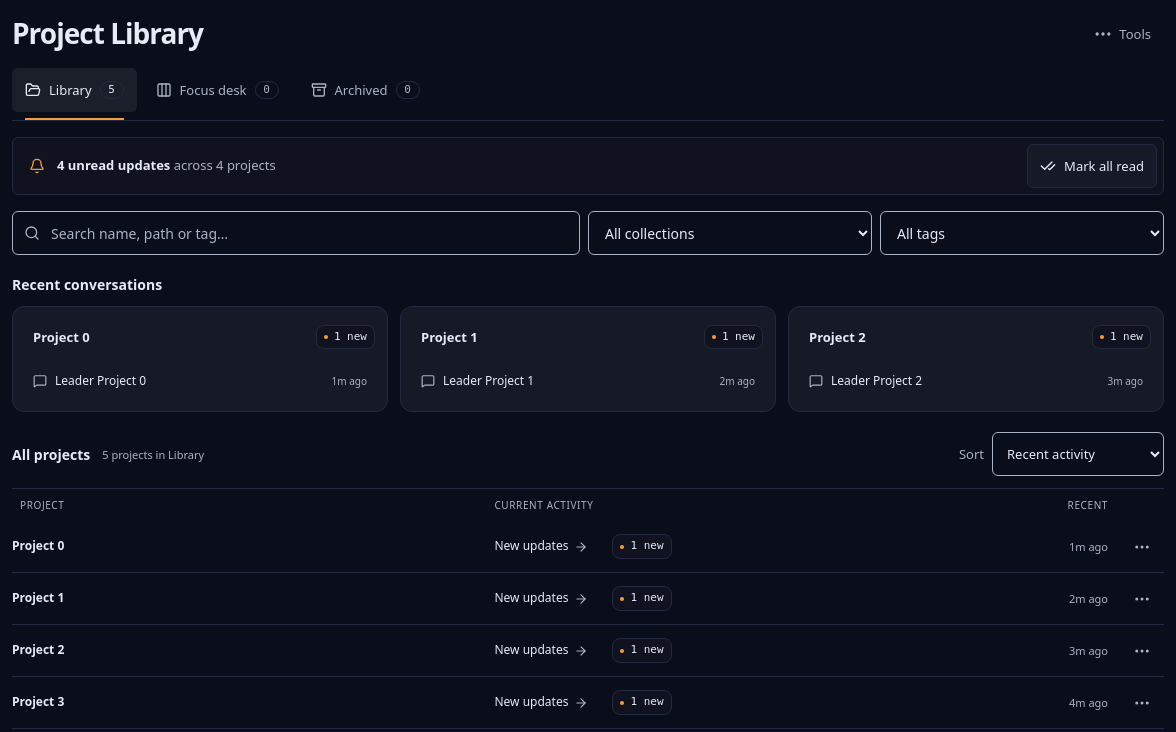
Test case: features only the latest three matching projects and keeps them in the complete compact list
Expected: the element named "Recent conversations for Project 0" is shown, [12,306,388,412]
Select "match" in the 2nd dropdown named "Tag" at (1022, 233), box [880,211,1164,255]
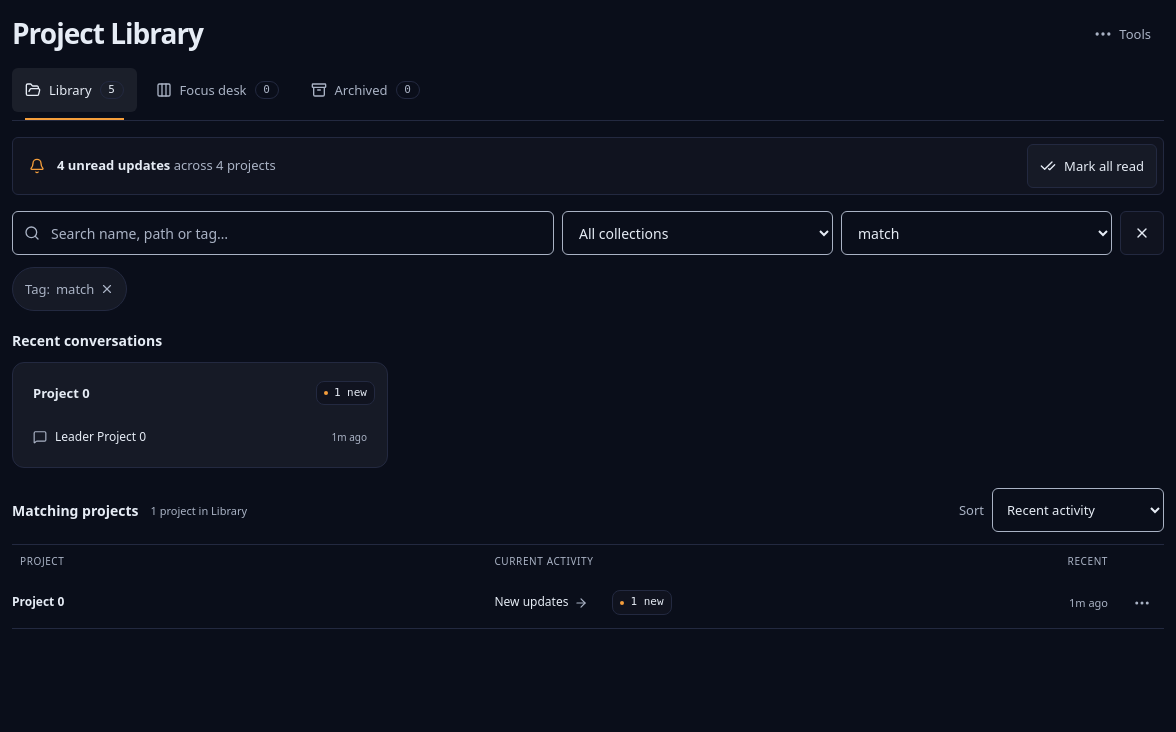
Expected: the element "Project 0" is shown, [12,577,1164,629]
Expected: the button "Project 1" is gone
